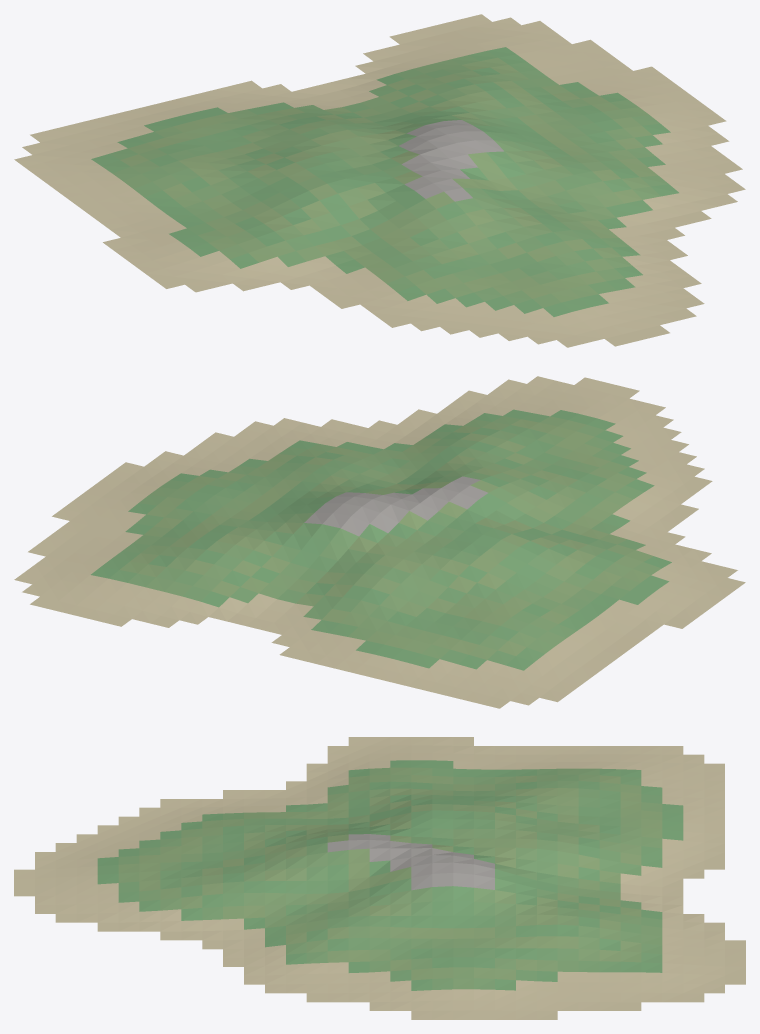
File: island_gamma.glb
3 renders of one model, top to bottom at view 1: azimuth 30°, elevation 25°; view 2: azimuth 150°, elevation 25°; view 3: azimuth 270°, elevation 25°, orthographic. The views are drawn at different scales.
Visible parts, largest first — view 1: island_gamma; view 2: island_gamma; view 3: island_gamma.
Boxes of the visible parts, x1,y1,x2,y2 form: island_gamma: (14, 14, 745, 347); island_gamma: (14, 376, 745, 708); island_gamma: (14, 737, 745, 1019).
Bounding box in the file's own units: 253 × 13.96 × 277.
